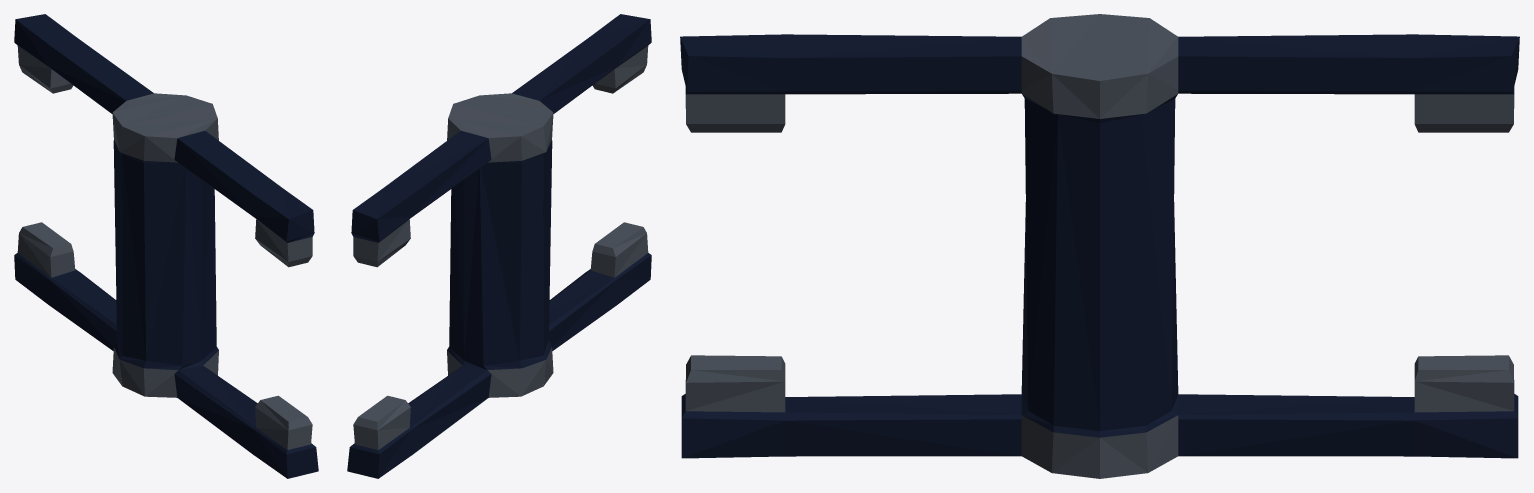
Rendered from fourtimes_rotator.FBX.
3 renders of one model, left to right at view 1: azimuth 30°, elevation 25°; view 2: azimuth 150°, elevation 25°; view 3: azimuth 270°, elevation 25°, orthographic. The views are drawn at different scales.
Visible parts, largest first — view 1: fourtimes_rotator; view 2: fourtimes_rotator; view 3: fourtimes_rotator.
Boxes of the visible parts, box(x1,y1,x2,y2) form: fourtimes_rotator: box(14, 14, 318, 478); fourtimes_rotator: box(347, 14, 651, 478); fourtimes_rotator: box(680, 14, 1519, 478).
Bounding box in the file's own units: 1.82 × 4.87 × 9.26.
